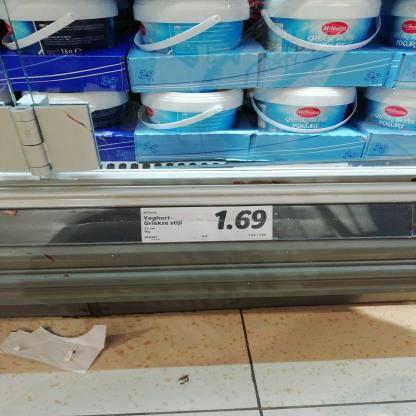prtg: (141, 206, 273, 244)
